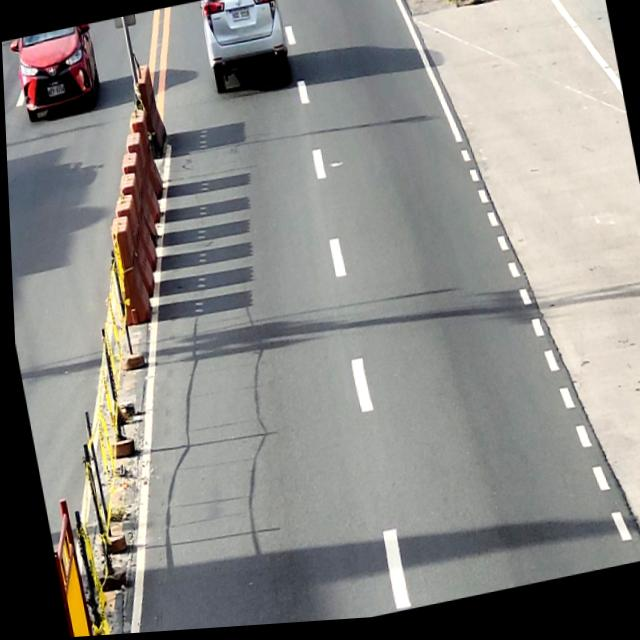Car: (8, 25, 104, 125), (197, 0, 293, 100)
License-Plate: (231, 9, 251, 25), (45, 84, 66, 98)
